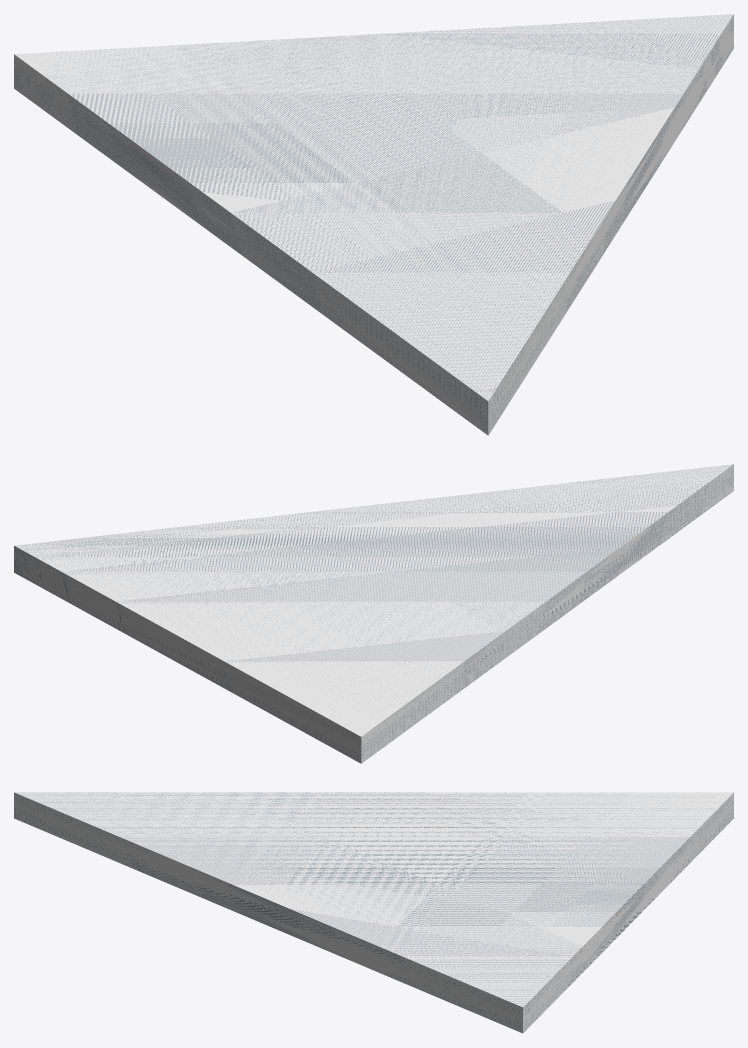
File: triangle 45 deg.fbx
The picture shows the model from 3 angles, top to bottom: view 1: azimuth 30°, elevation 25°; view 2: azimuth 150°, elevation 25°; view 3: azimuth 270°, elevation 25°; orthographic projection. The views are drawn at different scales.
Parts seen in each view (by area): view 1: Model; view 2: Model; view 3: Model.
Boxes of the visible parts, x1=… form: Model: x1=14, y1=14, x2=733, y2=435; Model: x1=14, y1=464, x2=733, y2=763; Model: x1=14, y1=792, x2=733, y2=1033.
Size of the model in its own units: 3.54 by 0.2 by 5.
